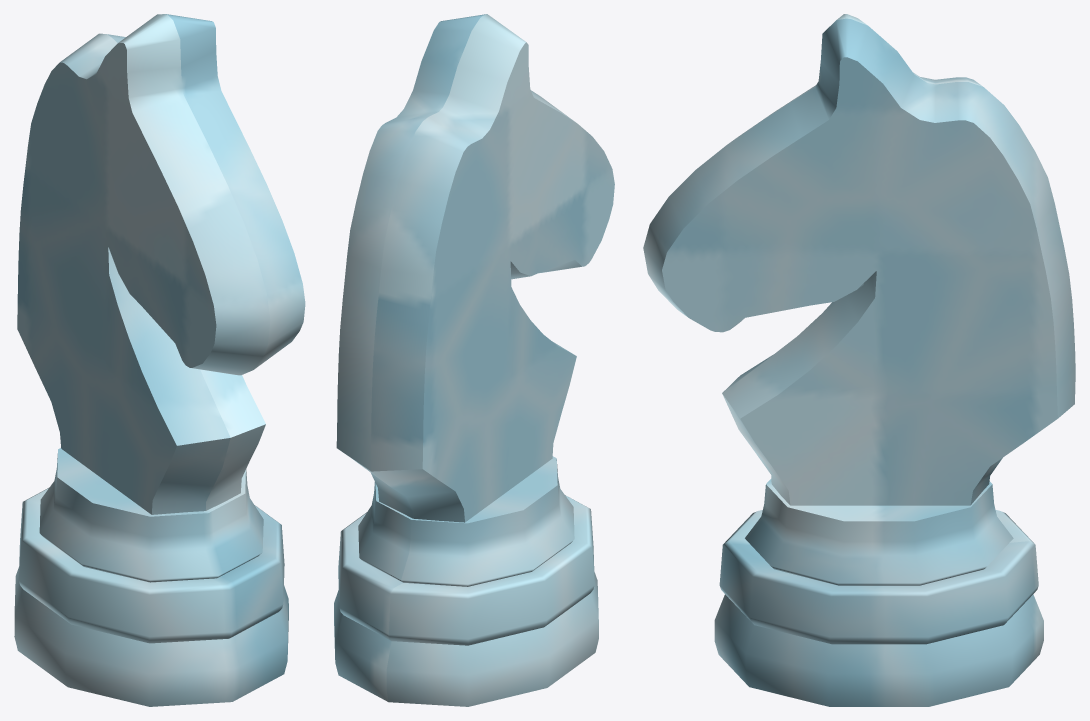
The model's file is item-1-2.glb.
The picture shows the model from 3 angles, left to right: view 1: azimuth 30°, elevation 25°; view 2: azimuth 150°, elevation 25°; view 3: azimuth 270°, elevation 25°; orthographic projection. The views are drawn at different scales.
Parts seen in each view (by area): view 1: BlackHorse; view 2: BlackHorse; view 3: BlackHorse.
Part boxes in pixels (box(x1,y1,x2,y2)): BlackHorse: box(14, 14, 305, 706); BlackHorse: box(334, 14, 614, 706); BlackHorse: box(643, 14, 1075, 706).
Size of the model in its own units: 0.0718 by 0.1965 by 0.1211.
Materials: 1 (1 with a texture image).
